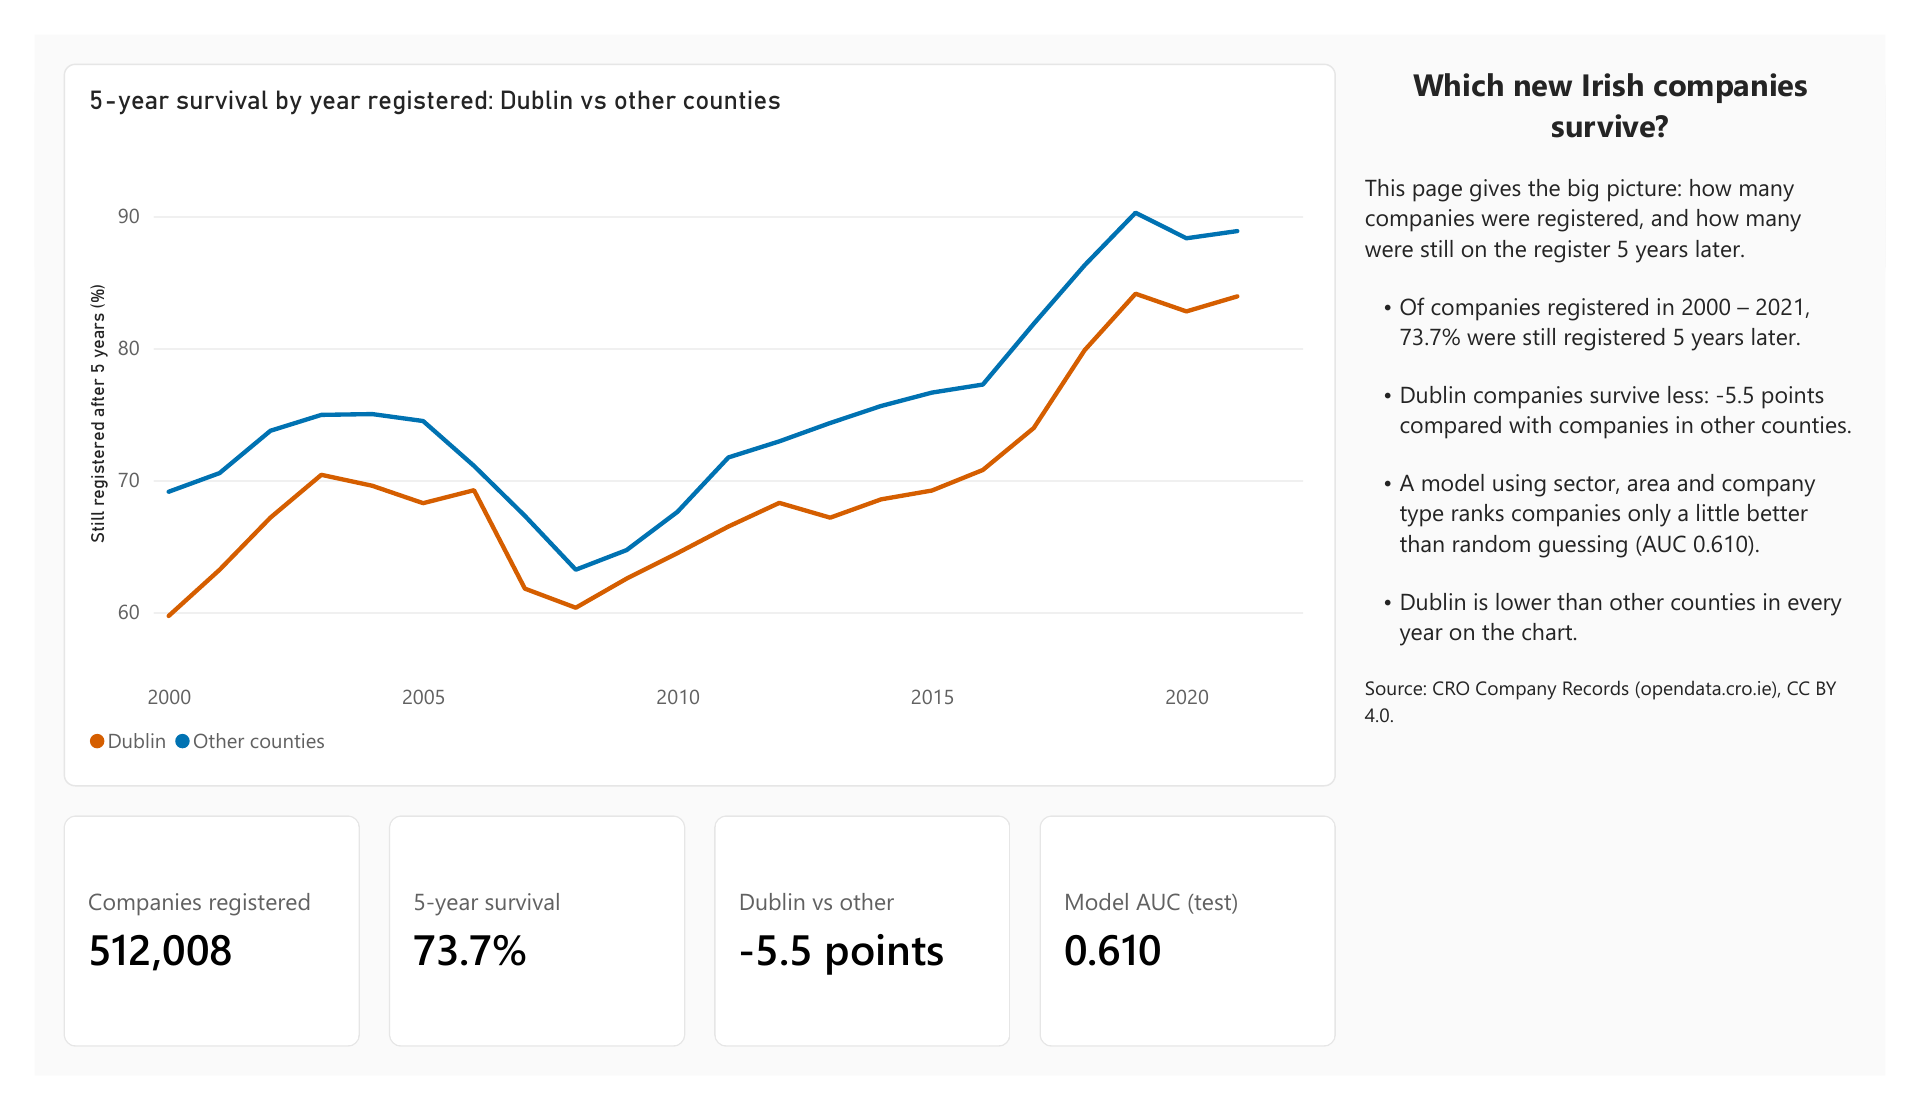

What the dashboard file says about the page in this screenshot:
{"tool":"powerbi","page":{"name":"Overview","canvas":[1280,720],"ordinal":0},"visuals":[{"type":"cardVisual","fields":{"Data":["fact_company.Companies (label)"]},"box":[20,540,205,160],"z":0},{"type":"cardVisual","fields":{"Data":["cohort_survival.5-year survival (label)"]},"box":[245,540,205,160],"z":1000},{"type":"cardVisual","fields":{"Data":["area_survival.Dublin gap (label)"]},"box":[470,540,205,160],"z":2000},{"type":"cardVisual","fields":{"Data":["model_results.Test AUC (label)"]},"box":[695,540,205,160],"z":3000},{"type":"lineChart","title":"5-year survival by year registered: Dublin vs other counties","fields":{"Category":["area_survival.reg_year"],"Series":["area_survival.area"],"Y":["area_survival.5-year survival by area %"]},"box":[20,20,880,500],"z":4000},{"type":"textbox","box":[920,20,340,680],"z":5000}]}

Visuals, with their boxes in screenshot pixels (x1, y1, x2, y2), scaled from the page's 1280x720 canvas onto the 1920x1111 screenshot:
cardVisual - fact_company.Companies (label): {"x1": 30, "y1": 833, "x2": 338, "y2": 1080}
cardVisual - cohort_survival.5-year survival (label): {"x1": 368, "y1": 833, "x2": 675, "y2": 1080}
cardVisual - area_survival.Dublin gap (label): {"x1": 705, "y1": 833, "x2": 1012, "y2": 1080}
cardVisual - model_results.Test AUC (label): {"x1": 1042, "y1": 833, "x2": 1350, "y2": 1080}
"5-year survival by year registered: Dublin vs other counties" lineChart: {"x1": 30, "y1": 31, "x2": 1350, "y2": 802}
textbox: {"x1": 1380, "y1": 31, "x2": 1890, "y2": 1080}
